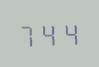four: (39, 20, 58, 46), (59, 19, 78, 45)
seven: (18, 21, 37, 47)
